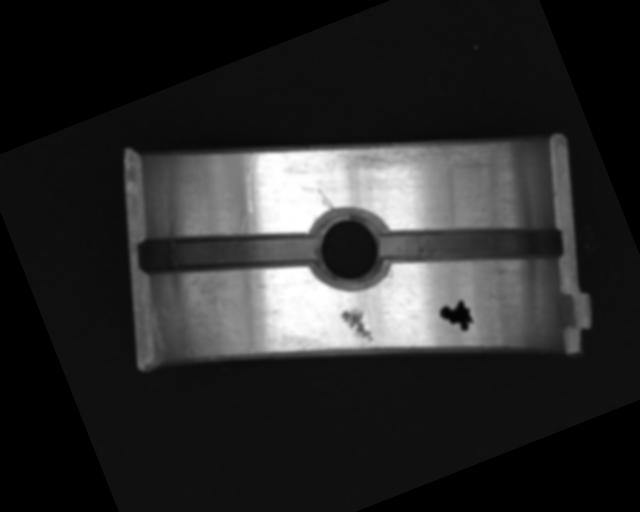blot: (437, 297, 477, 337)
bruise: (339, 303, 375, 348)
gap: (377, 174, 566, 314), (136, 186, 318, 316)
hole: (300, 198, 399, 299)
nick: (227, 150, 277, 214), (316, 184, 337, 214)
scratch: (337, 96, 497, 205)
